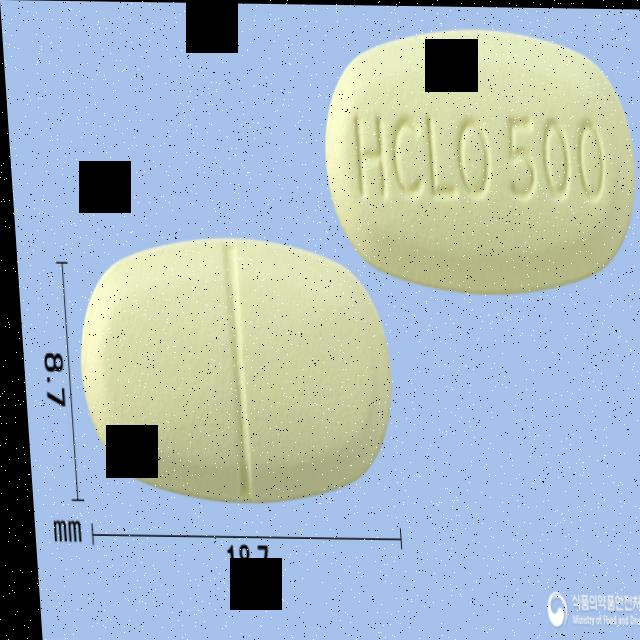Ciprofloxacin Tab- Mirae: (316, 24, 640, 294), (70, 235, 393, 501)
